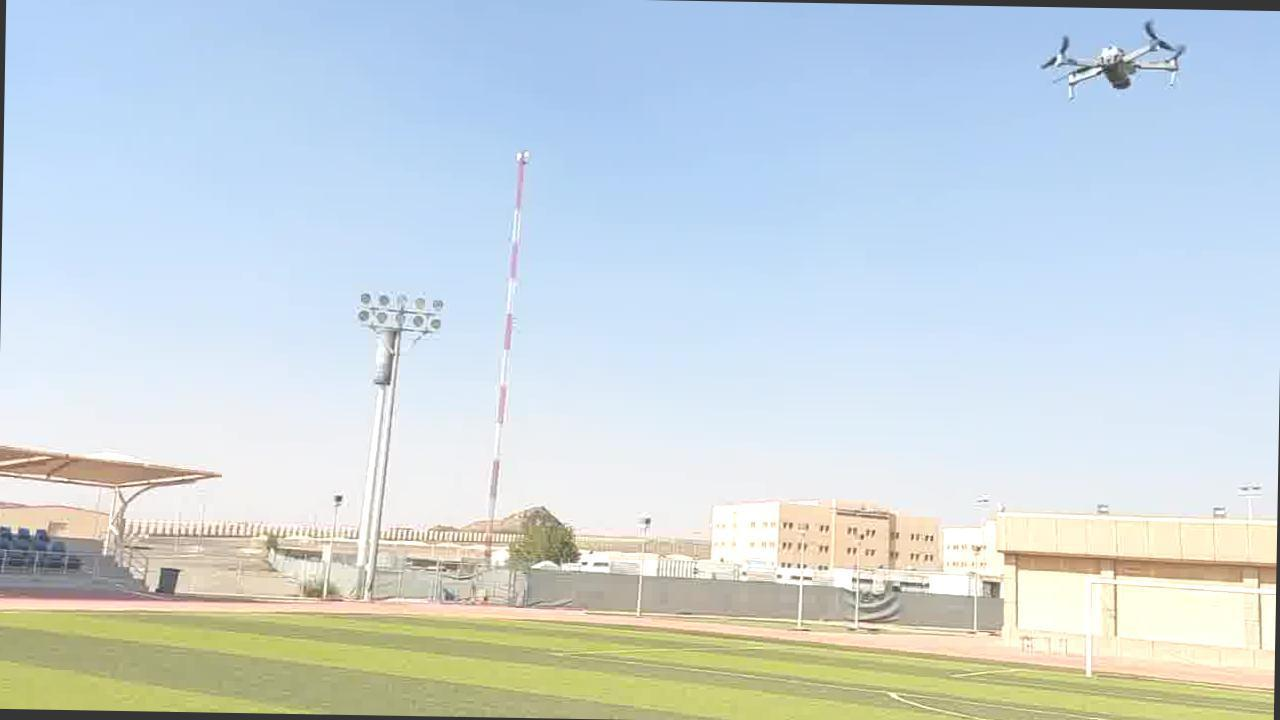drone: (1038, 20, 1187, 102)
